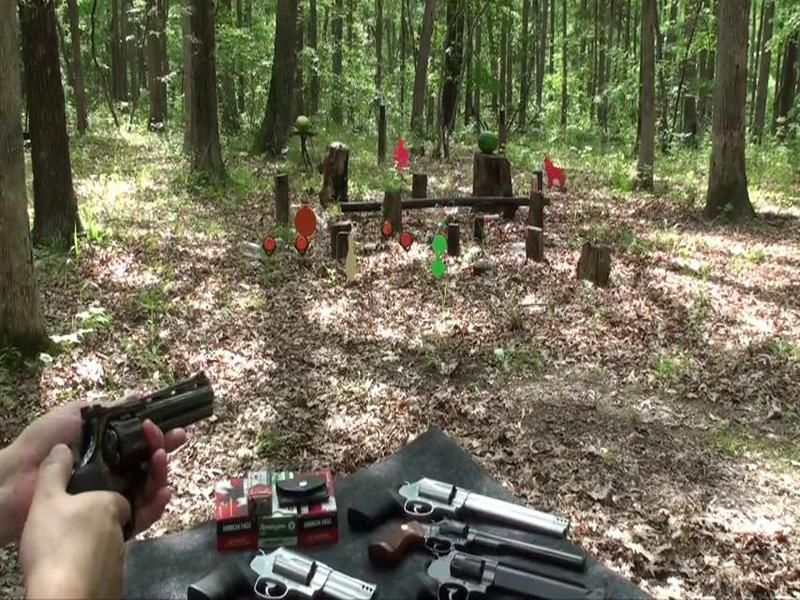Revolver: (38, 373, 216, 534)
